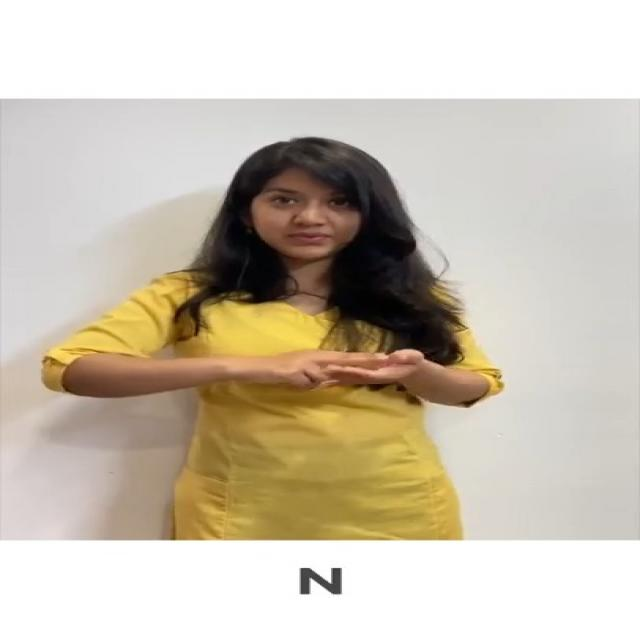N: (185, 333, 467, 416)
